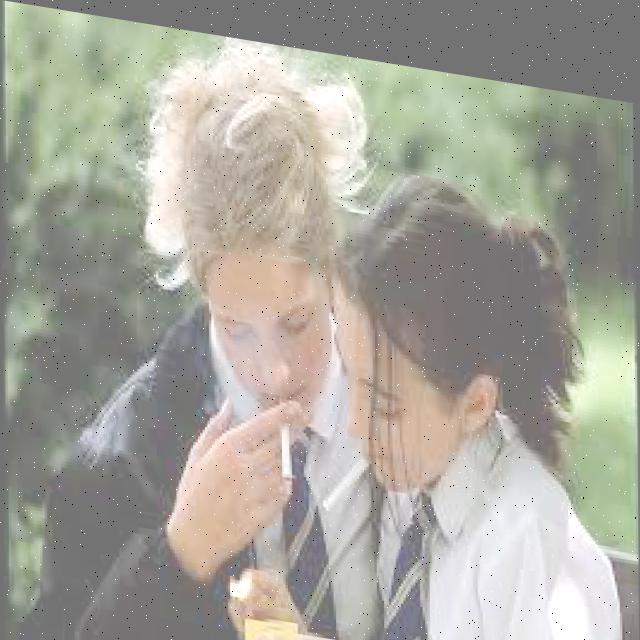Fire: (217, 546, 258, 592)
